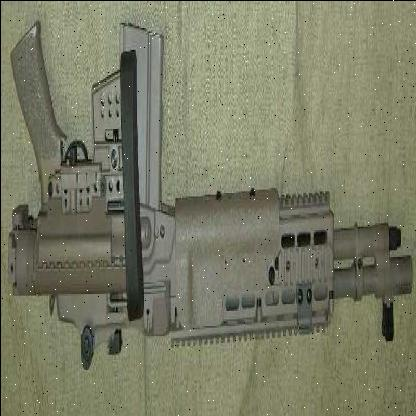rifle: (0, 2, 413, 389)
